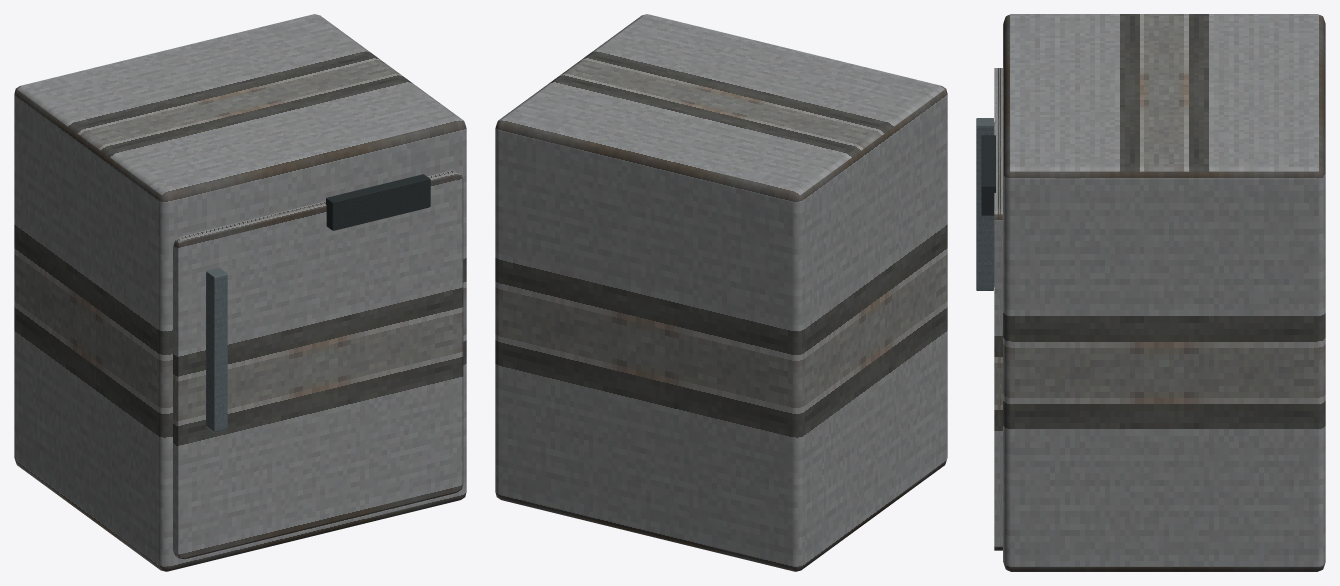
The model's file is oven.glb.
3 renders of one model, left to right at view 1: azimuth 30°, elevation 25°; view 2: azimuth 150°, elevation 25°; view 3: azimuth 270°, elevation 25°, orthographic. The views are drawn at different scales.
Visible parts, largest first — view 1: case, front, display, pull; view 2: case; view 3: case, front, pull, display.
Part boxes in pixels (<box>): case: <box>14,14,466,571</box>; front: <box>173,170,463,559</box>; display: <box>326,174,430,230</box>; pull: <box>206,267,227,432</box>; case: <box>495,14,947,571</box>; case: <box>1003,14,1325,571</box>; front: <box>994,68,1002,550</box>; pull: <box>976,118,994,290</box>; display: <box>981,135,995,215</box>.
Size of the model in its own units: 0.76 by 0.9 by 0.702.
3 materials, 3 textured.
